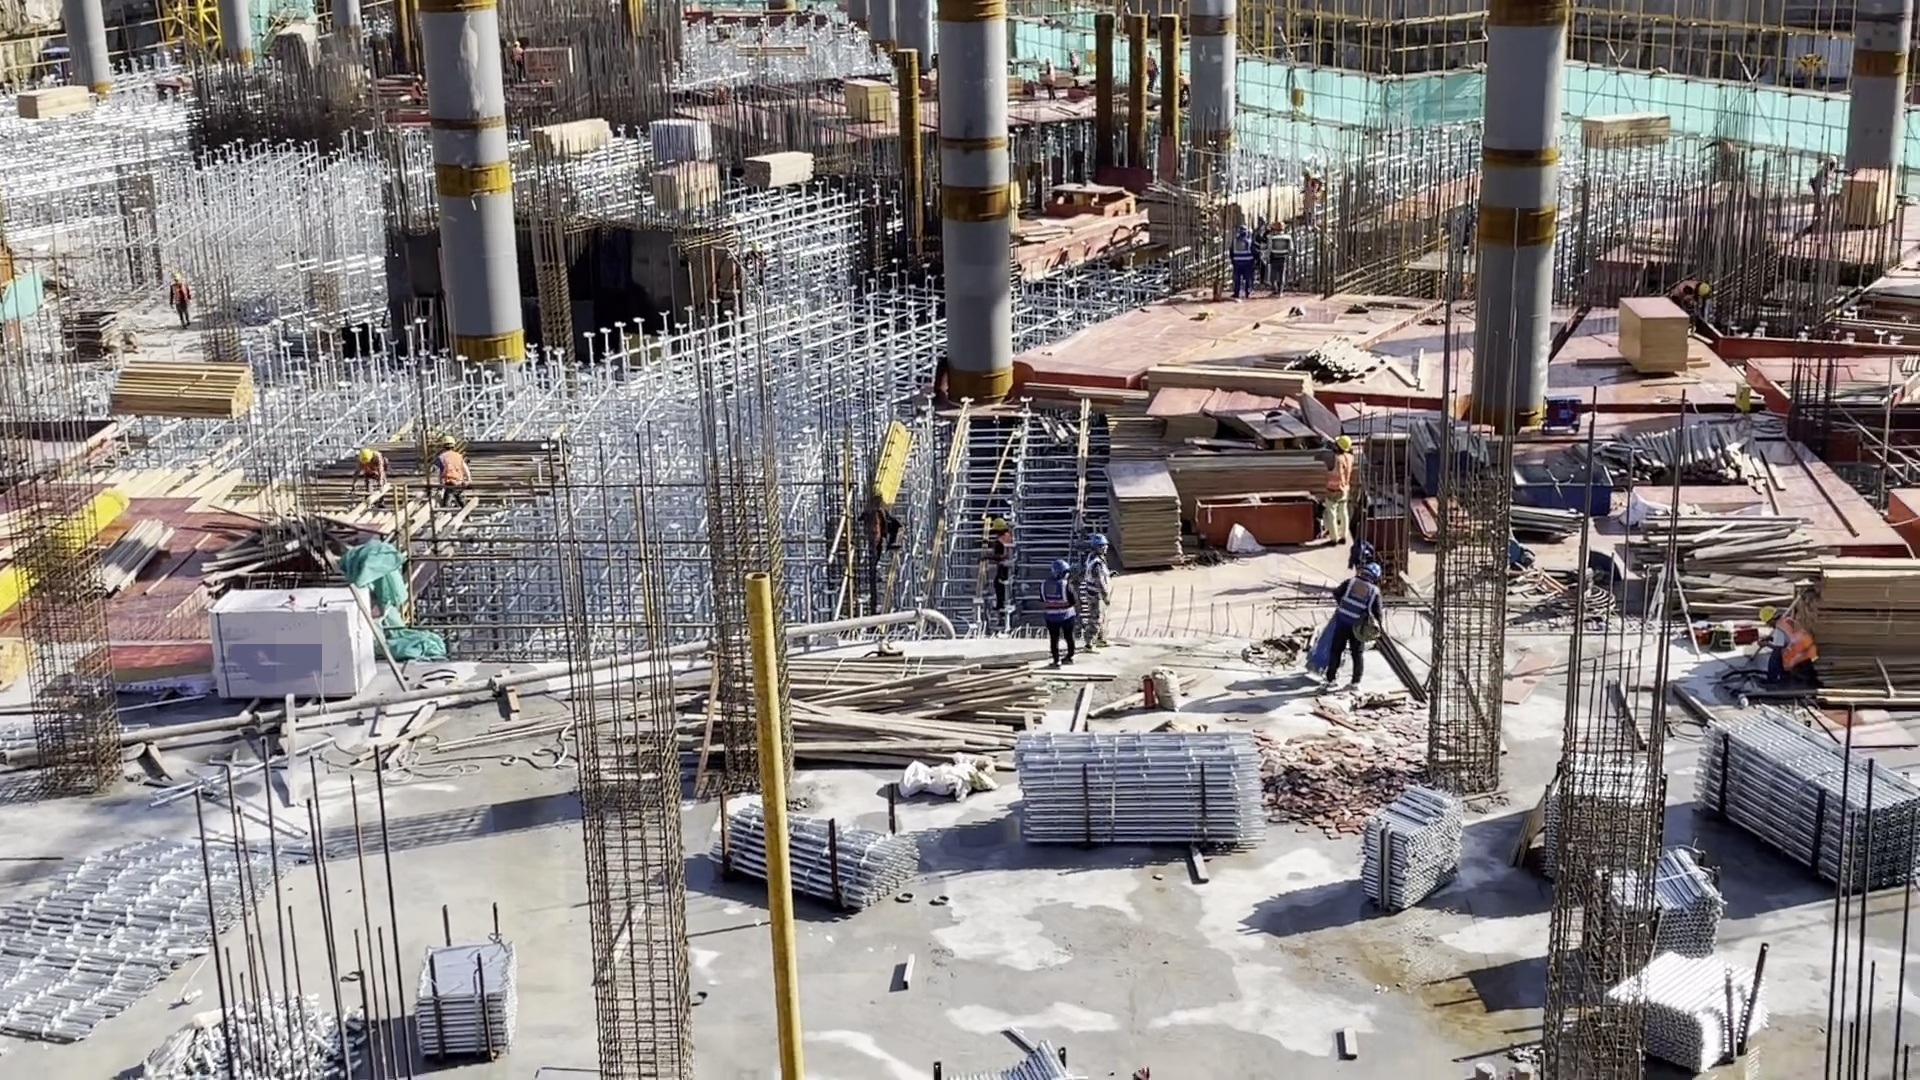helmet: (1758, 604, 1777, 623), (1361, 564, 1383, 577), (1048, 560, 1069, 574), (1089, 534, 1108, 548), (356, 448, 375, 462), (1337, 434, 1349, 453), (992, 517, 1007, 531), (441, 437, 455, 448)
person: (1329, 563, 1384, 692), (1759, 604, 1815, 692), (1039, 560, 1079, 666), (1321, 433, 1350, 548), (1083, 534, 1109, 658), (433, 435, 473, 510), (989, 517, 1012, 618), (1266, 219, 1294, 300), (351, 447, 388, 498), (1228, 226, 1252, 299), (168, 275, 194, 331), (1147, 48, 1159, 99), (1044, 56, 1054, 103)
vest: (1777, 615, 1815, 670), (1042, 580, 1076, 630), (1340, 580, 1374, 623), (435, 450, 465, 497), (1329, 458, 1350, 496), (1088, 558, 1102, 599), (1231, 237, 1254, 262), (997, 543, 1011, 577), (173, 283, 190, 311), (1269, 233, 1286, 256)
